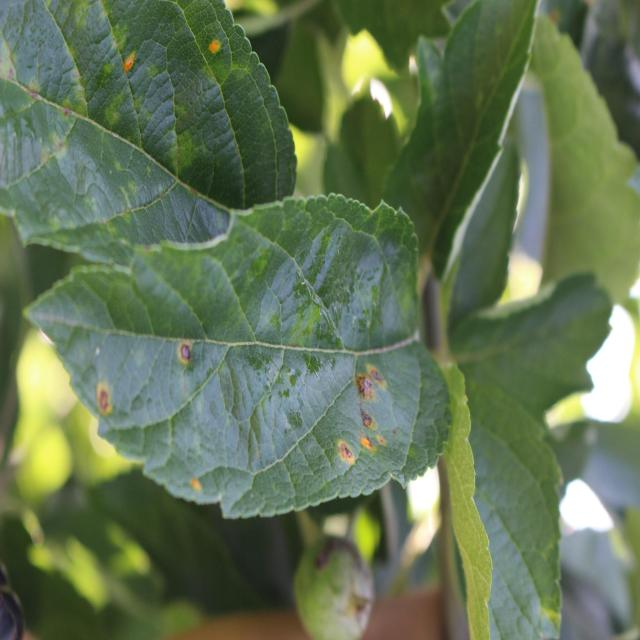Rust: (347, 350, 397, 404), (88, 376, 116, 432), (168, 330, 200, 374), (198, 28, 229, 66), (334, 433, 358, 478), (118, 35, 139, 85), (182, 471, 208, 501), (355, 427, 378, 460), (375, 424, 391, 461)
